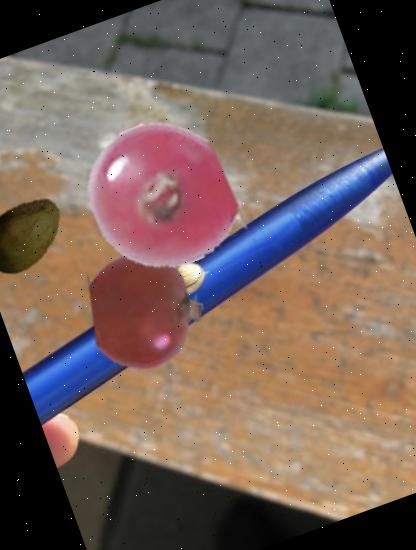Papaya: (0, 176, 82, 295)
Redcurrant: (64, 101, 254, 291), (74, 237, 220, 383)
